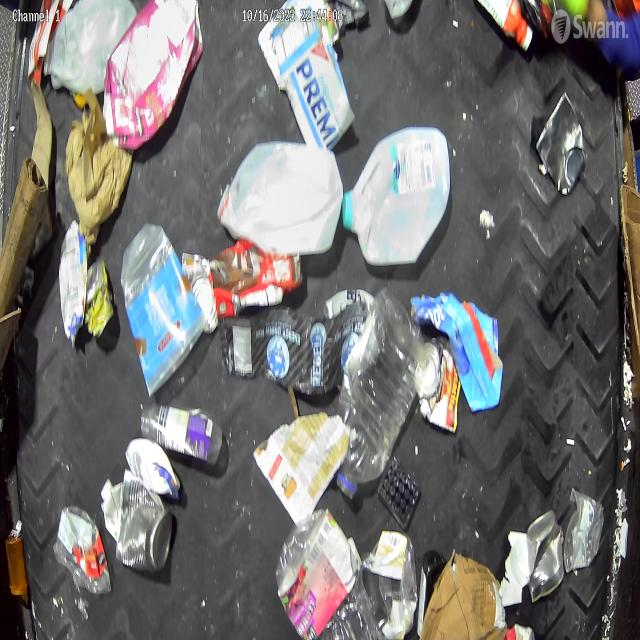can: (208, 241, 300, 320), (107, 478, 173, 573), (535, 91, 585, 192), (416, 336, 461, 434), (526, 507, 566, 601), (85, 259, 115, 341)
milk_jug: (341, 125, 452, 268), (218, 141, 344, 255), (45, 0, 136, 100)
non_white_jug: (104, 0, 203, 149), (274, 508, 360, 639), (59, 220, 86, 346)
plastic_bottle: (332, 292, 427, 498), (54, 507, 110, 594)
